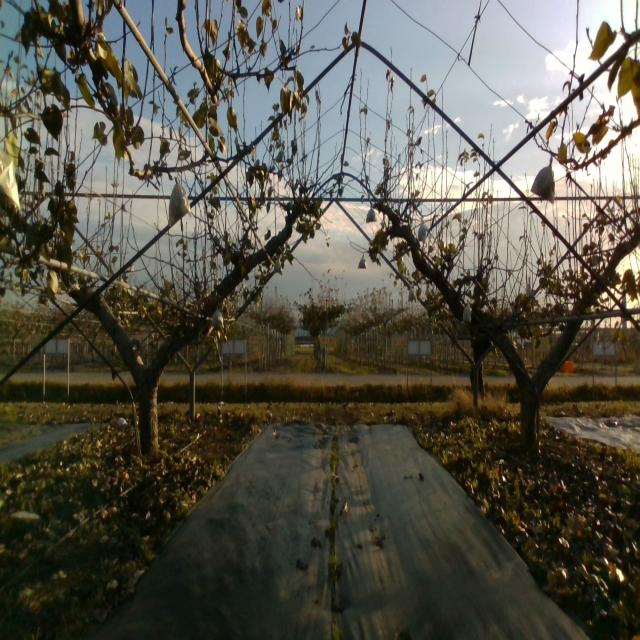pearbags: (530, 154, 556, 204), (168, 182, 191, 226), (210, 311, 224, 333), (418, 222, 428, 245), (462, 302, 472, 324), (365, 205, 377, 223)
